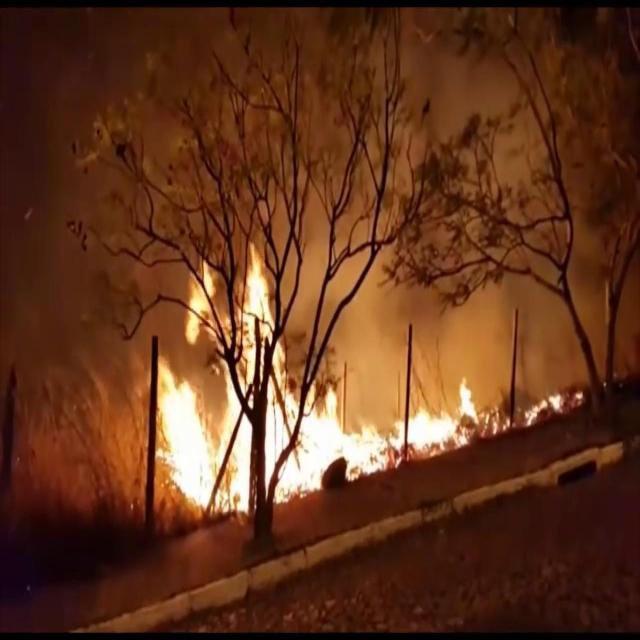Fire: (148, 240, 492, 500), (523, 391, 561, 426)
